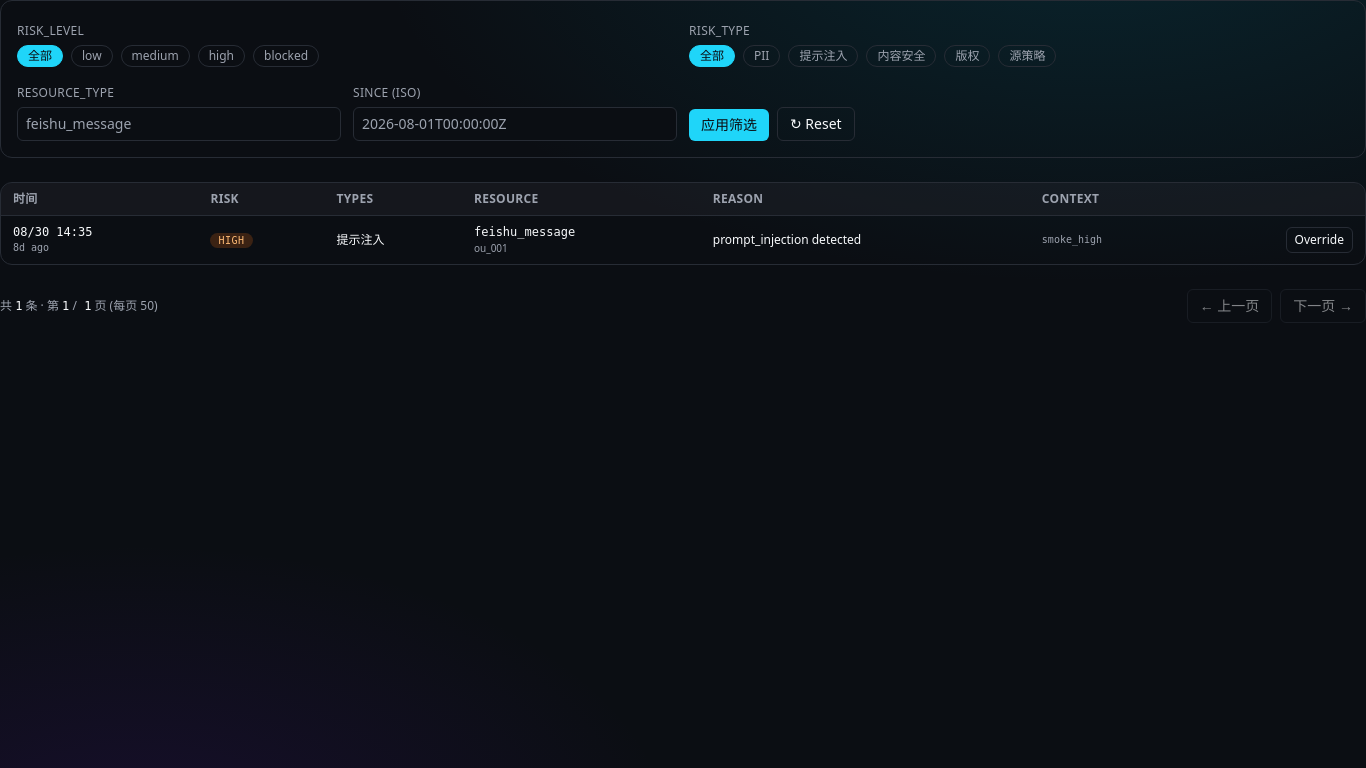
Test: CompliancePanel › opens the override modal when an Override button is clicked
The image size is (1366, 768).
Click the button with test id "compliance-override-btn-21": click(1319, 240) [1286,227,1353,253]
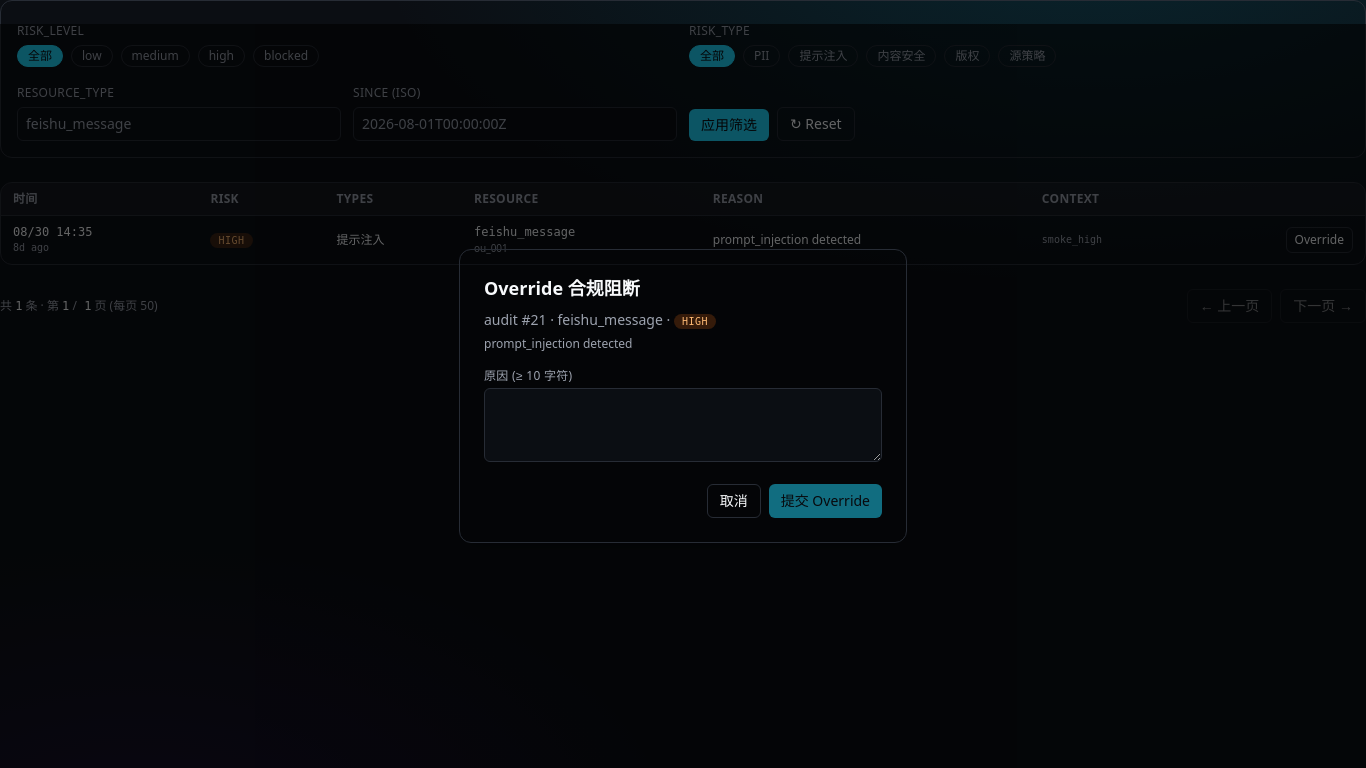
Now the dialog with test id "override-modal" is shown
Now the text box with test id "override-reason-input" is shown, box [484,388,882,462]
